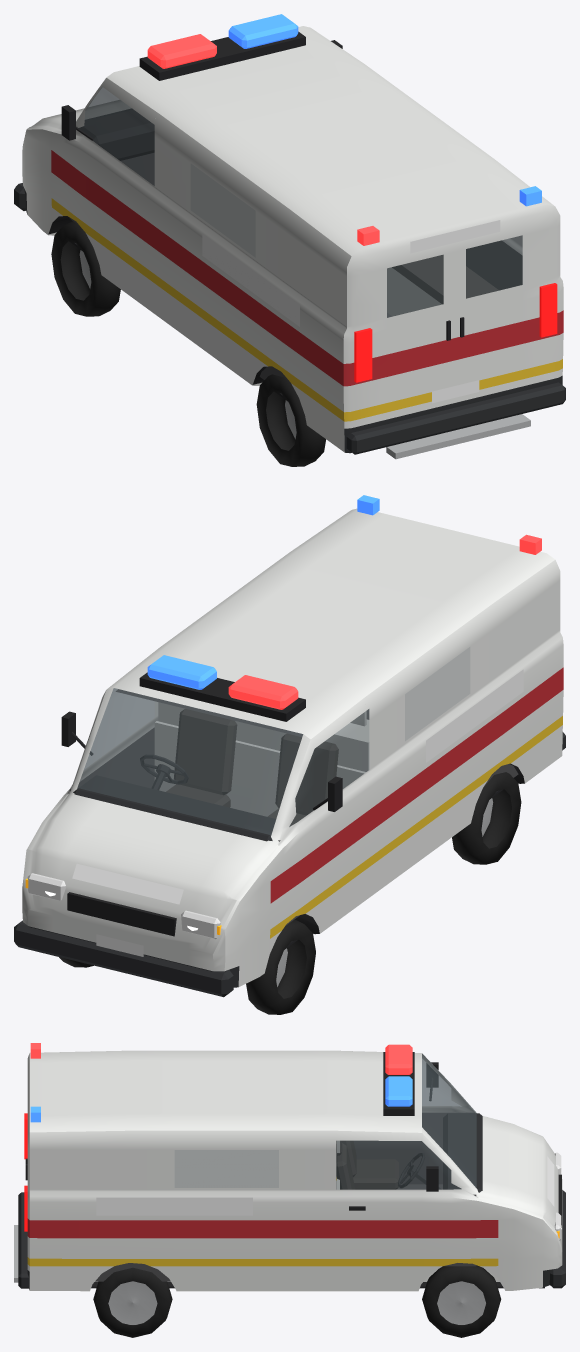
Rendered from ambulance_lod1.glb.
The picture shows the model from 3 angles, top to bottom: view 1: azimuth 30°, elevation 25°; view 2: azimuth 150°, elevation 25°; view 3: azimuth 270°, elevation 25°; orthographic projection. The views are drawn at different scales.
Visible parts, largest first — view 1: amb_body, wheel_fl, wheel_rl; view 2: amb_body, wheel_fl, wheel_rl; view 3: amb_body, wheel_fr, wheel_rr.
Boxes of the visible parts, <box> form: amb_body: <box>14,14,565,459</box>; wheel_fl: <box>51,221,120,316</box>; wheel_rl: <box>256,374,325,466</box>; amb_body: <box>14,495,565,997</box>; wheel_fl: <box>246,919,315,1014</box>; wheel_rl: <box>452,772,521,864</box>; amb_body: <box>14,1043,565,1291</box>; wheel_fr: <box>422,1265,501,1337</box>; wheel_rr: <box>93,1267,172,1337</box>.
Bounding box in the file's own units: 2.42 × 2.4 × 5.29.
